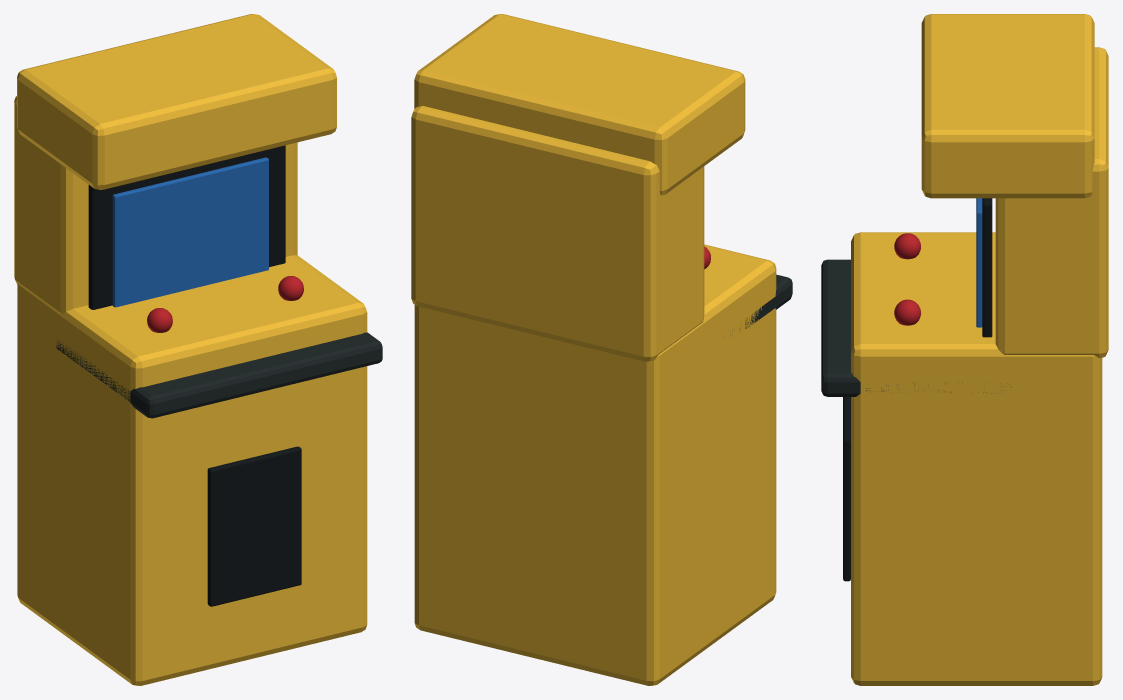
The model's file is better.glb.
The picture shows the model from 3 angles, left to right: view 1: azimuth 30°, elevation 25°; view 2: azimuth 150°, elevation 25°; view 3: azimuth 270°, elevation 25°; orthographic projection. The views are drawn at different scales.
Parts seen in each view (by area): view 1: Arcade cabinet, Coin door, Game screen, Control deck, Joystick ball; view 2: Arcade cabinet, Control deck; view 3: Arcade cabinet, Control deck, Coin door, Joystick ball, Game screen.
Boxes of the visible parts, x1,y1,x2,y2 form: Arcade cabinet: [14, 14, 367, 685]; Coin door: [88, 145, 301, 606]; Game screen: [112, 157, 268, 307]; Control deck: [56, 332, 382, 418]; Joystick ball: [147, 276, 303, 332]; Arcade cabinet: [411, 14, 776, 685]; Control deck: [730, 274, 792, 335]; Arcade cabinet: [851, 14, 1108, 685]; Control deck: [821, 259, 1011, 396]; Coin door: [843, 198, 992, 581]; Joystick ball: [894, 233, 920, 325]; Game screen: [976, 198, 982, 327].
Size of the model in its own units: 1.03 by 2.18 by 1.02.
